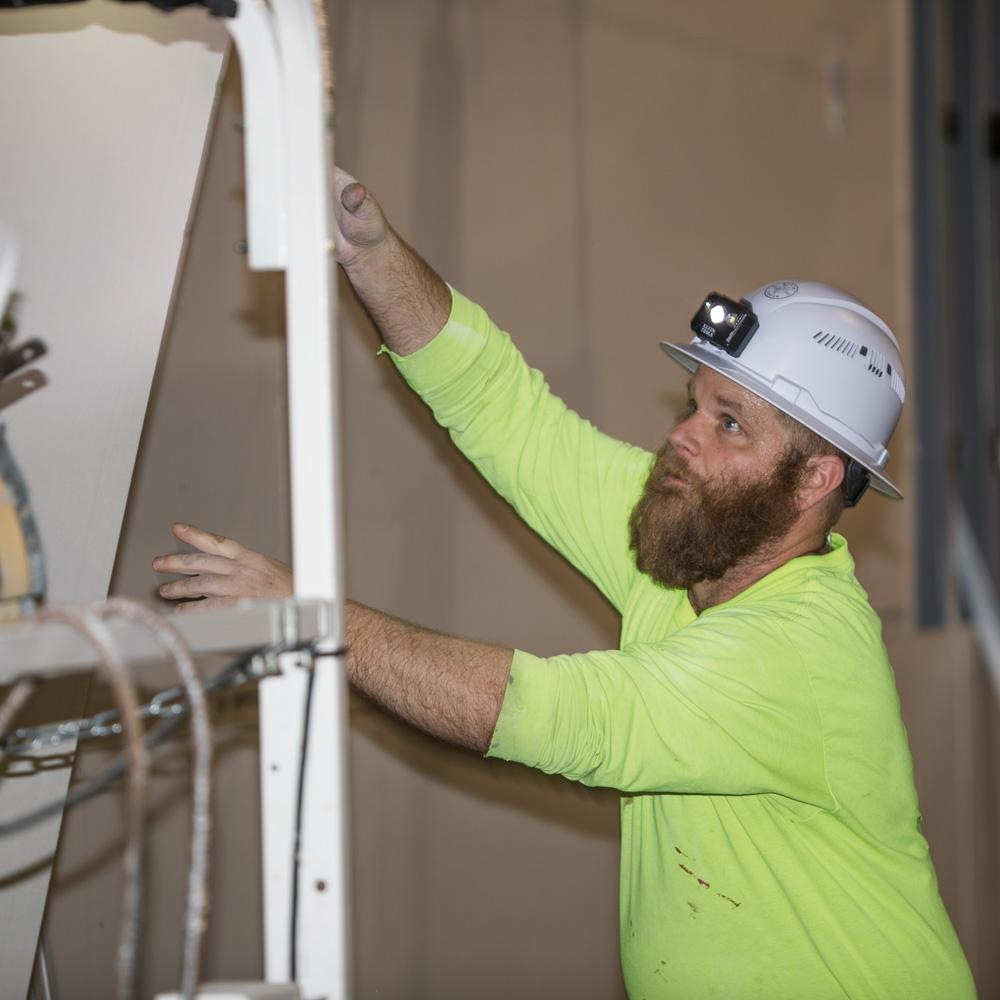helmet: (649, 269, 910, 512)
no_wear: (614, 566, 973, 1000)
